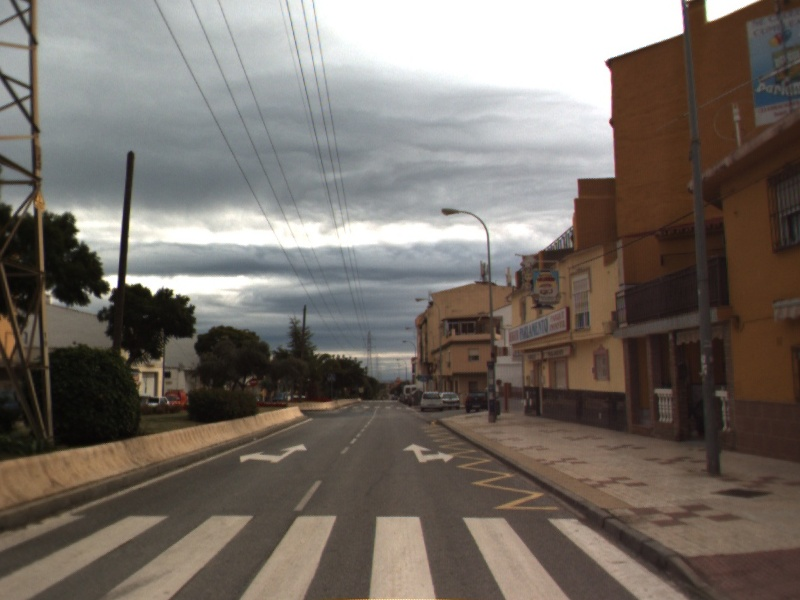STRAIGHT_LEFT: (238, 442, 309, 465)
STRAIGHT_RIGHT: (400, 441, 456, 465)
